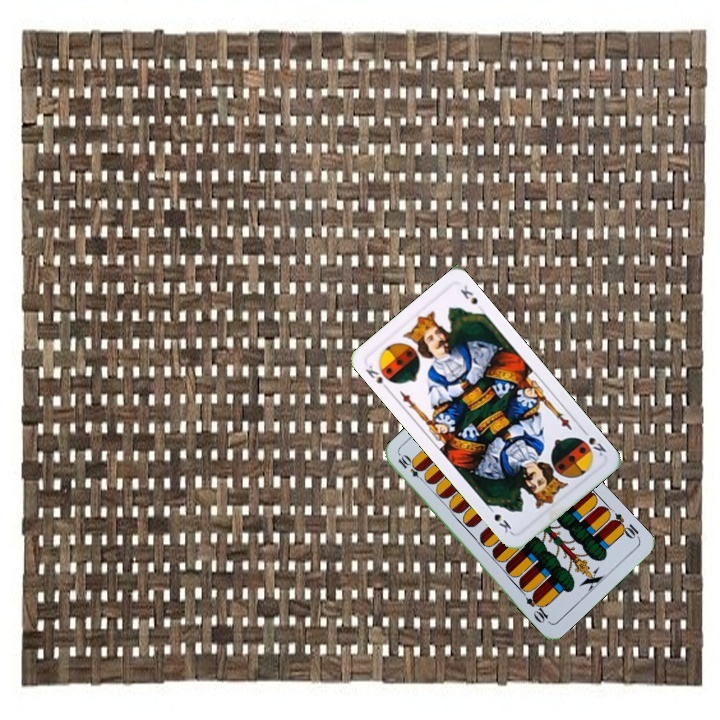E10: (394, 451, 428, 485), (607, 509, 642, 542)
SK: (361, 361, 396, 394), (578, 424, 609, 459)
